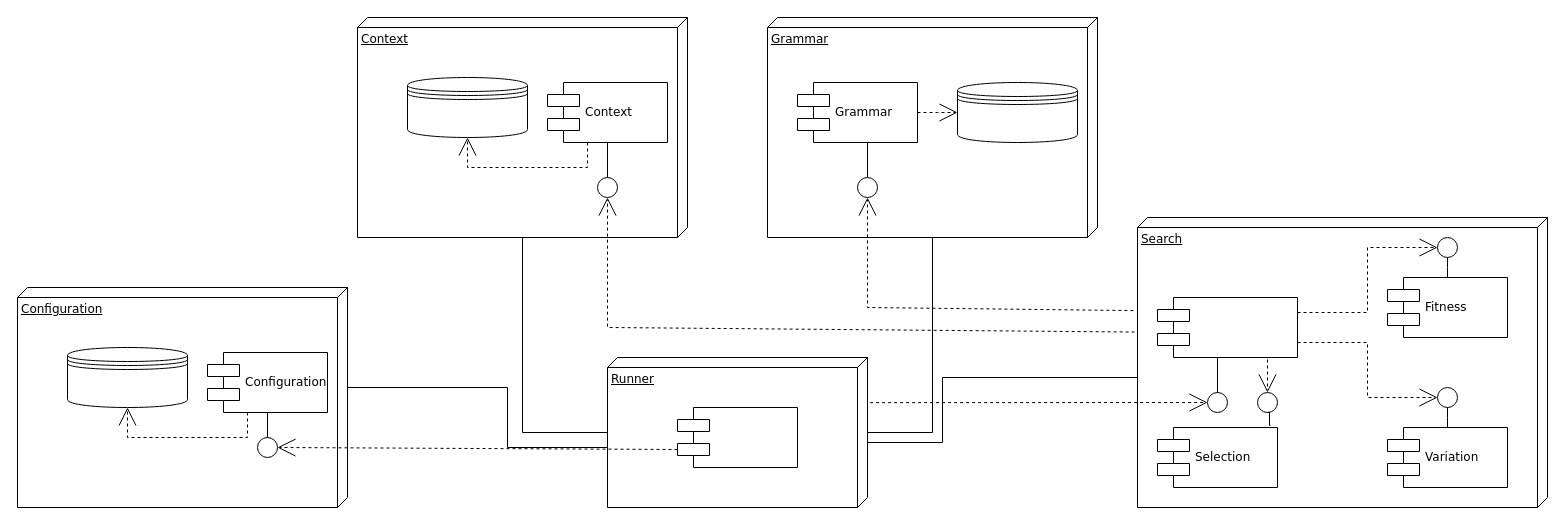
Image size: 1565x525. Some labels were removed from this diagram. The box of each missing label's shape, as (x1, y1, x2, y2) in pixels:
.YAML File: (66, 346, 188, 408)
ANLR Grammar: (956, 82, 1078, 142)
App Runner: (676, 406, 798, 468)
Kotlin Files: (406, 76, 528, 138)
Search Algorithm: (1156, 296, 1298, 358)
